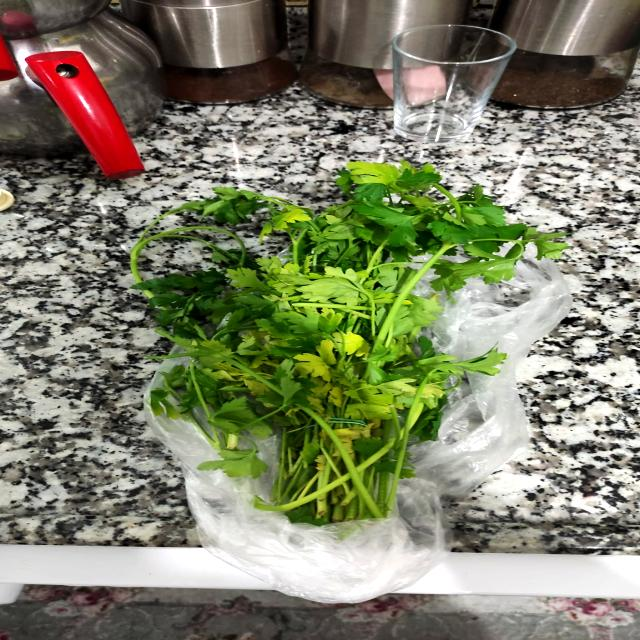parsley: (115, 152, 584, 531)
